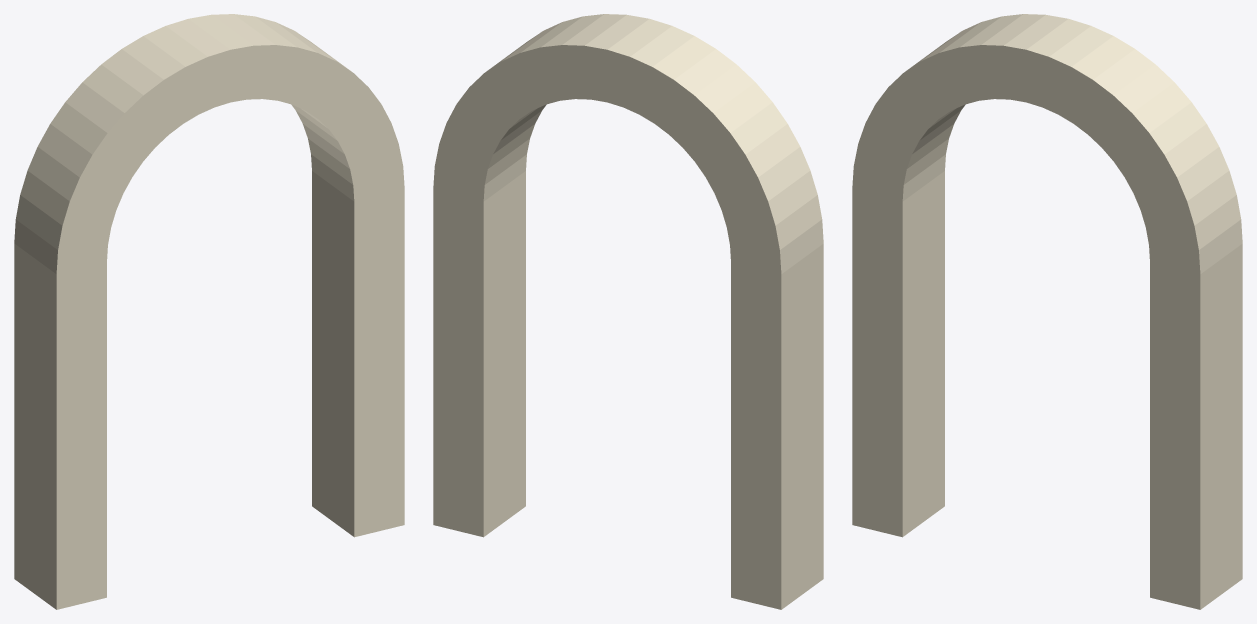
The model's file is garden-arch-1.0.2.glb.
3 views of the same model, side by side, from view 1: azimuth 30°, elevation 25°; view 2: azimuth 150°, elevation 25°; view 3: azimuth 330°, elevation 25° (orthographic).
Visible parts, largest first — view 1: garden-arch; view 2: garden-arch; view 3: garden-arch.
Part boxes in pixels (<box>): garden-arch: <box>14,14,404,609</box>; garden-arch: <box>433,14,823,609</box>; garden-arch: <box>852,14,1242,609</box>.
Size of the model in its own units: 1.52 by 2.16 by 0.32.
